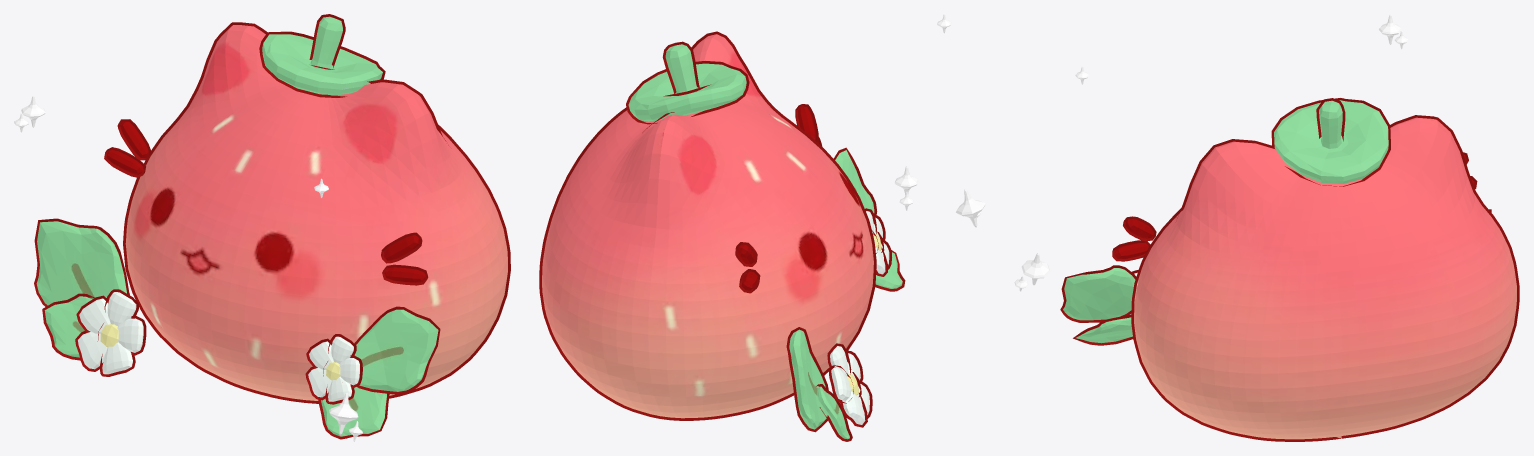
The model's file is strayberry_cat.glb.
The picture shows the model from 3 angles, left to right: view 1: azimuth 30°, elevation 25°; view 2: azimuth 150°, elevation 25°; view 3: azimuth 270°, elevation 25°; orthographic projection. The views are drawn at different scales.
Parts seen in each view (by area): view 1: Strayberry_Cat, Sparks; view 2: Strayberry_Cat, Sparks; view 3: Strayberry_Cat, Sparks.
Boxes of the visible parts, x1,y1,x2,y2 form: Strayberry_Cat: [34, 14, 510, 439]; Sparks: [14, 95, 362, 441]; Strayberry_Cat: [539, 31, 905, 441]; Sparks: [895, 14, 985, 227]; Strayberry_Cat: [1060, 98, 1519, 441]; Sparks: [1014, 14, 1408, 291].
Bounding box in the file's own units: 1.38 × 1.14 × 1.57.
Materials: 3 (1 with a texture image).
